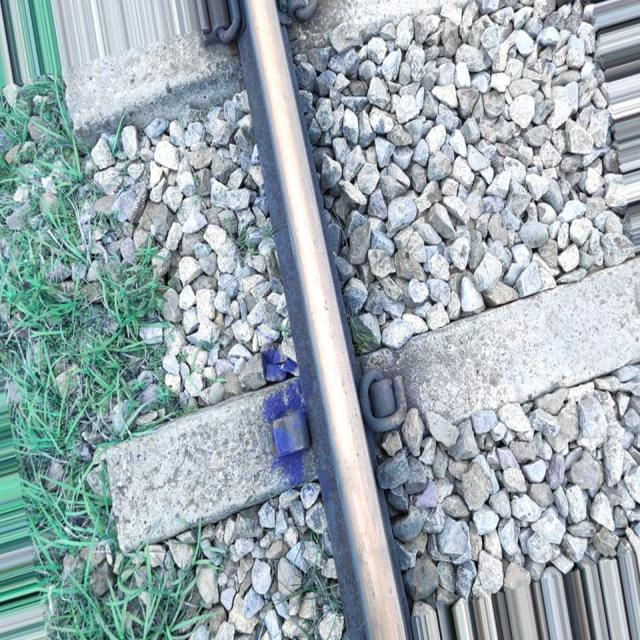Good Fasteners: (360, 368, 407, 432), (197, 0, 244, 45), (295, 0, 318, 20)
Missing Fastener: (259, 398, 318, 465)
